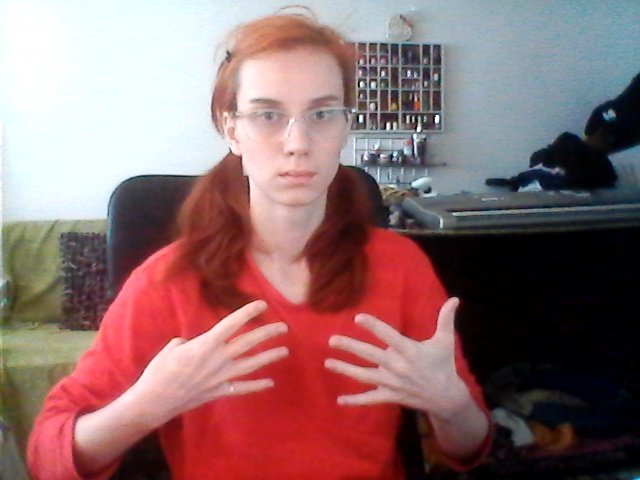devat: (147, 292, 466, 413)
